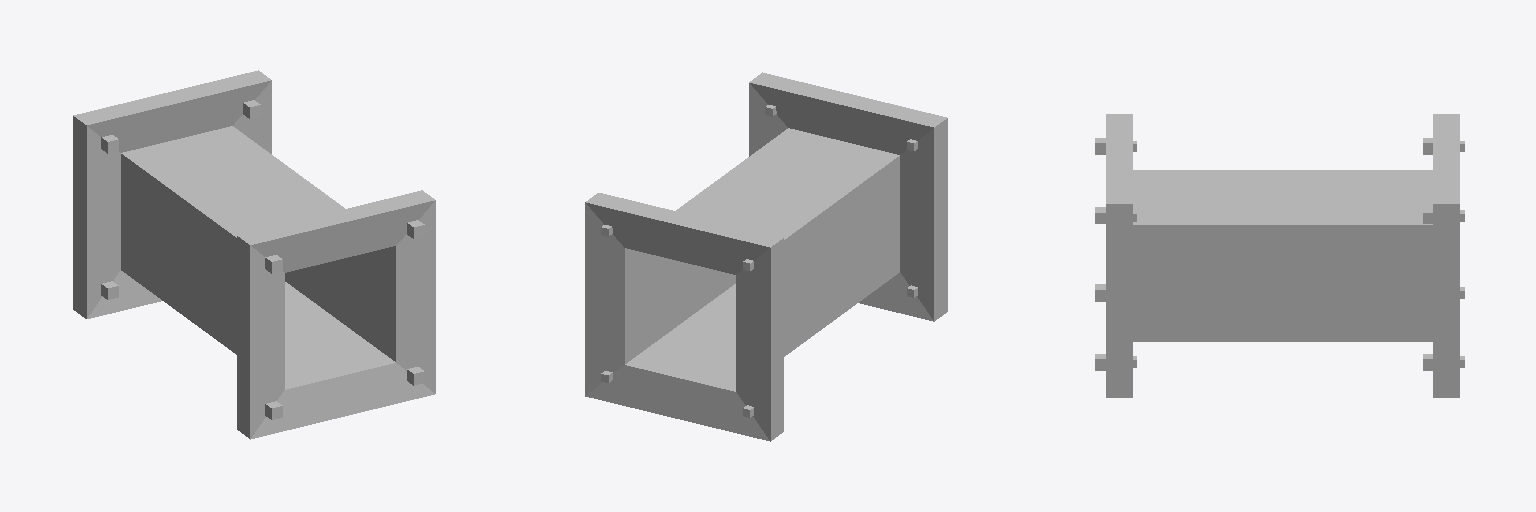
Rendered from pipe.obj.
3 renders of one model, left to right at view 1: azimuth 30°, elevation 25°; view 2: azimuth 150°, elevation 25°; view 3: azimuth 270°, elevation 25°, orthographic.
Visible parts, largest first — view 1: pipe, cap_2, cap_1; view 2: pipe, cap_1, cap_2; view 3: pipe, cap_2, cap_1.
Boxes of the visible parts, x1=… form: pipe: x1=121, y1=126, x2=395, y2=389; cap_2: x1=237, y1=190, x2=435, y2=439; cap_1: x1=73, y1=70, x2=271, y2=318; pipe: x1=625, y1=128, x2=899, y2=391; cap_1: x1=585, y1=193, x2=783, y2=441; cap_2: x1=749, y1=72, x2=947, y2=321; pipe: x1=1133, y1=170, x2=1432, y2=341; cap_2: x1=1095, y1=114, x2=1136, y2=397; cap_1: x1=1423, y1=114, x2=1464, y2=397.
Size of the model in its own units: 0.6225 by 0.6225 by 1.08.